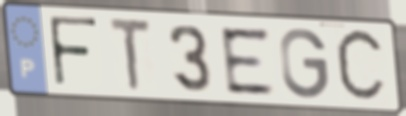3: (167, 23, 215, 94)
C: (332, 25, 389, 107)
E: (216, 25, 279, 96)
F: (46, 13, 101, 91)
G: (277, 26, 331, 102)
T: (107, 15, 154, 95)
